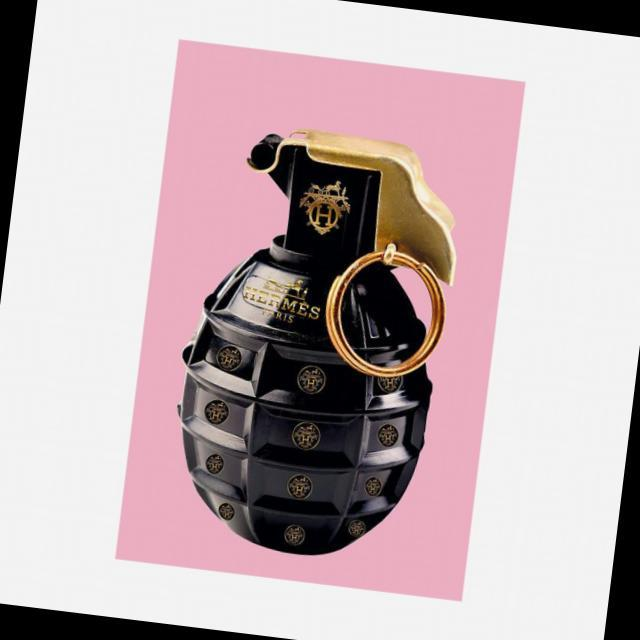grenade: (160, 128, 465, 576)
